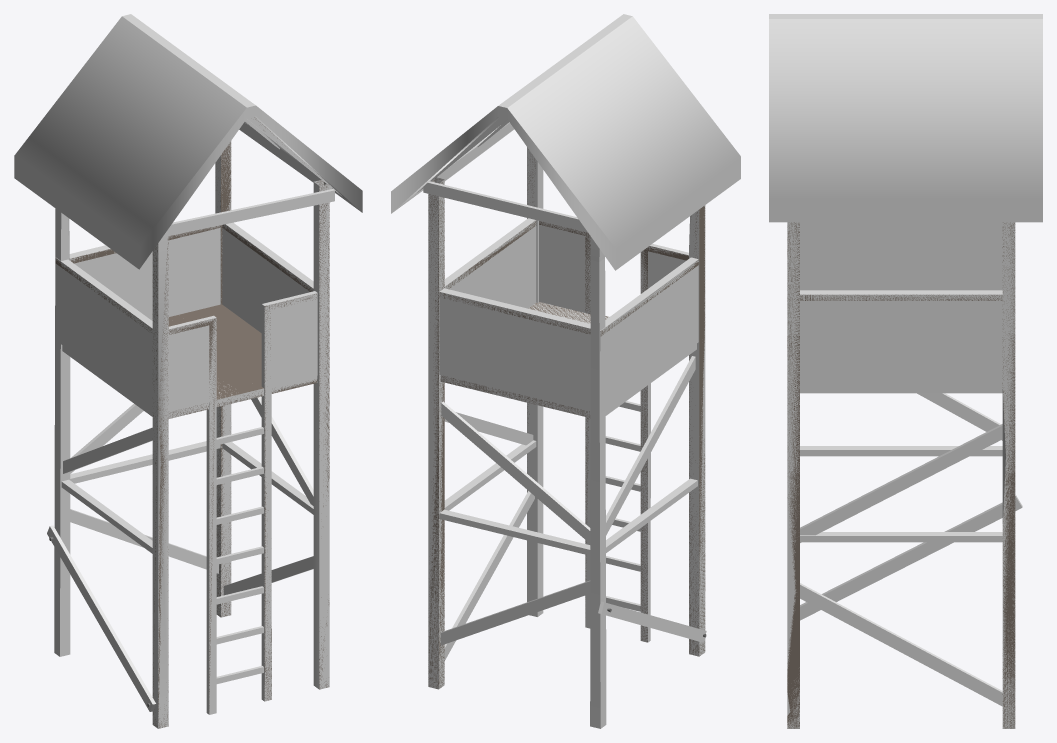
Rendered from model_guard_tower.fbx.
3 views of the same model, side by side, from view 1: azimuth 30°, elevation 25°; view 2: azimuth 150°, elevation 25°; view 3: azimuth 270°, elevation 25° (orthographic). The views are drawn at different scales.
Parts seen in each view (by area): view 1: model_guard_tower_col, model_guard_tower; view 2: model_guard_tower_col, model_guard_tower; view 3: model_guard_tower_col, model_guard_tower.
Boxes of the visible parts, <box> form: model_guard_tower_col: <box>14,14,362,728</box>; model_guard_tower: <box>49,117,329,728</box>; model_guard_tower_col: <box>391,14,740,728</box>; model_guard_tower: <box>428,149,706,688</box>; model_guard_tower_col: <box>769,14,1042,728</box>; model_guard_tower: <box>787,222,1015,728</box>.
Size of the model in its own units: 539 by 1402 by 523.
Materials: 2 (1 with a texture image).
